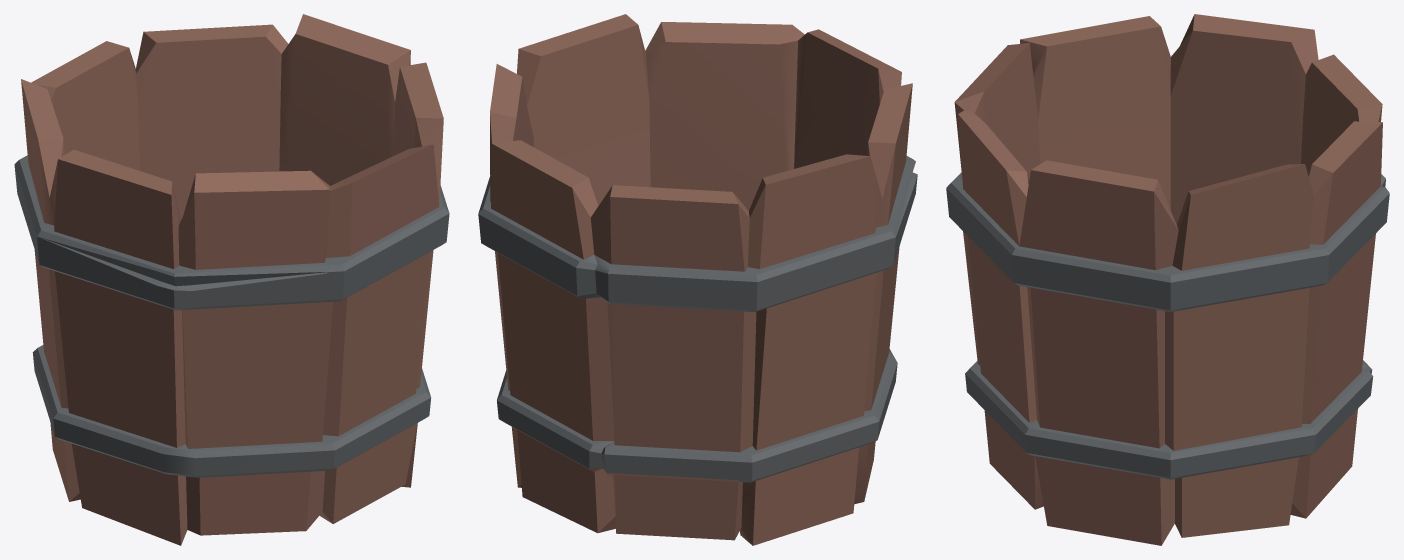
Rendered from SM_Bucket_Wooden_02.fbx.
3 renders of one model, left to right at view 1: azimuth 30°, elevation 25°; view 2: azimuth 150°, elevation 25°; view 3: azimuth 270°, elevation 25°, orthographic.
Visible parts, largest first — view 1: Bucket_Wooden_02; view 2: Bucket_Wooden_02; view 3: Bucket_Wooden_02.
Part boxes in pixels (x1,y1,x2,y2): Bucket_Wooden_02: [14, 14, 449, 545]; Bucket_Wooden_02: [478, 14, 917, 545]; Bucket_Wooden_02: [946, 14, 1389, 545].
Bounding box in the file's own units: 26.15 × 24.63 × 25.84.
